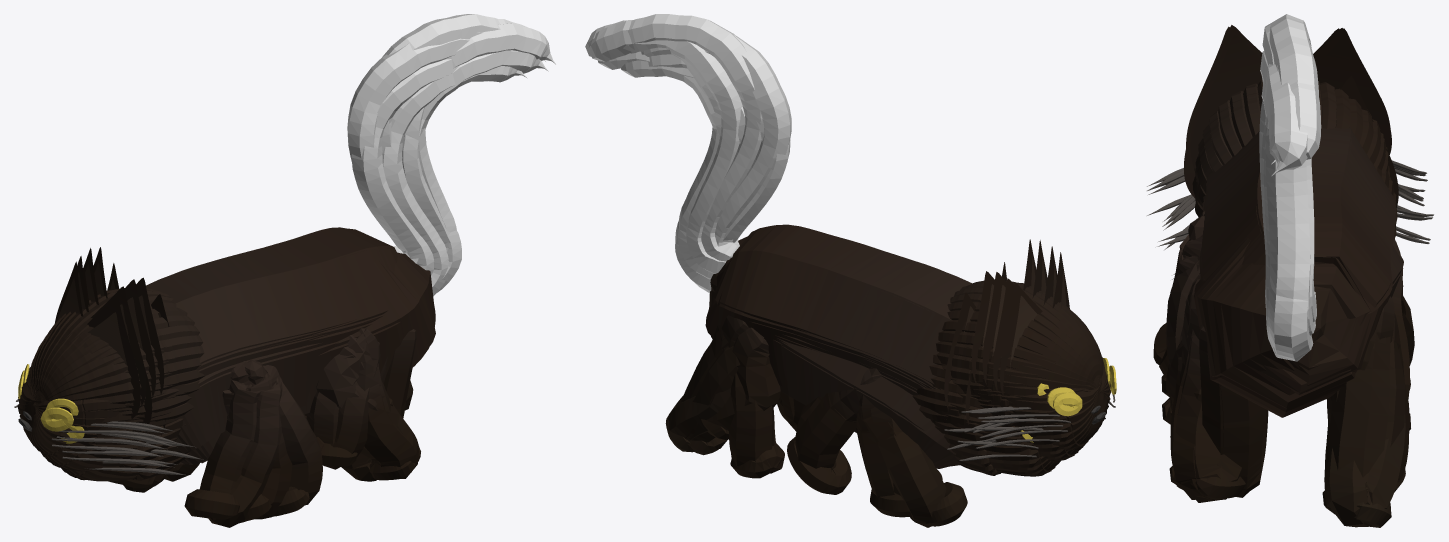
The model's file is Catrun.fbx.
The picture shows the model from 3 angles, left to right: view 1: azimuth 30°, elevation 25°; view 2: azimuth 150°, elevation 25°; view 3: azimuth 270°, elevation 25°; orthographic projection. The views are drawn at different scales.
Visible parts, largest first — view 1: NewLayer0, NewLayer1, NewLayer2; view 2: NewLayer0, NewLayer1, NewLayer2; view 3: NewLayer0, NewLayer1, NewLayer2.
Boxes of the visible parts, left/top/right/bottom form: NewLayer0: left=14, top=227, right=435, bottom=481; NewLayer1: left=108, top=328, right=420, bottom=527; NewLayer2: left=347, top=14, right=555, bottom=295; NewLayer0: left=705, top=224, right=1116, bottom=476; NewLayer1: left=665, top=315, right=967, bottom=527; NewLayer2: left=585, top=14, right=791, bottom=293; NewLayer0: left=1147, top=25, right=1433, bottom=417; NewLayer1: left=1153, top=211, right=1414, bottom=527; NewLayer2: left=1259, top=14, right=1321, bottom=361.
Bounding box in the file's own units: 2.81 × 2.18 × 1.06.
